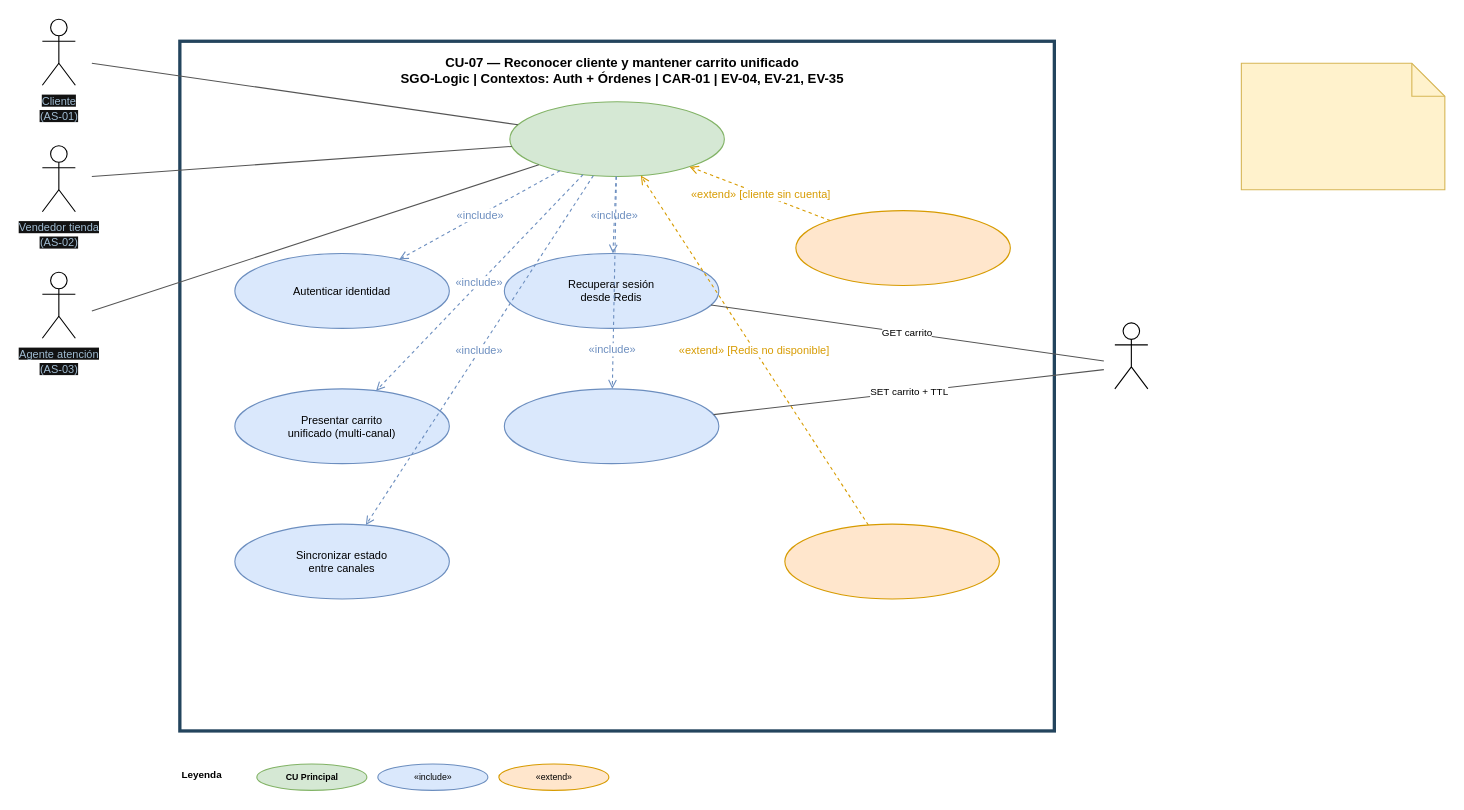
Some shapes in this 1464 by 810 pixel diagram are drawn without their labels. Here are the shapes that lost their labels. From the top down, the box of each, then its label:
(509, 101, 724, 177): Reconocer cliente y mantener carrito unificado
(1240, 62, 1445, 190): TTL del carrito: [VAC: no definido] Pendiente de decisión del negocio. (EV-35)
(795, 210, 1010, 285): Iniciar como invitado
(1114, 322, 1148, 389): Redis (sistema)
(503, 388, 719, 464): Persistir carrito con TTL en Redis
(784, 523, 999, 599): Modo degradado (Redis no disponible)
